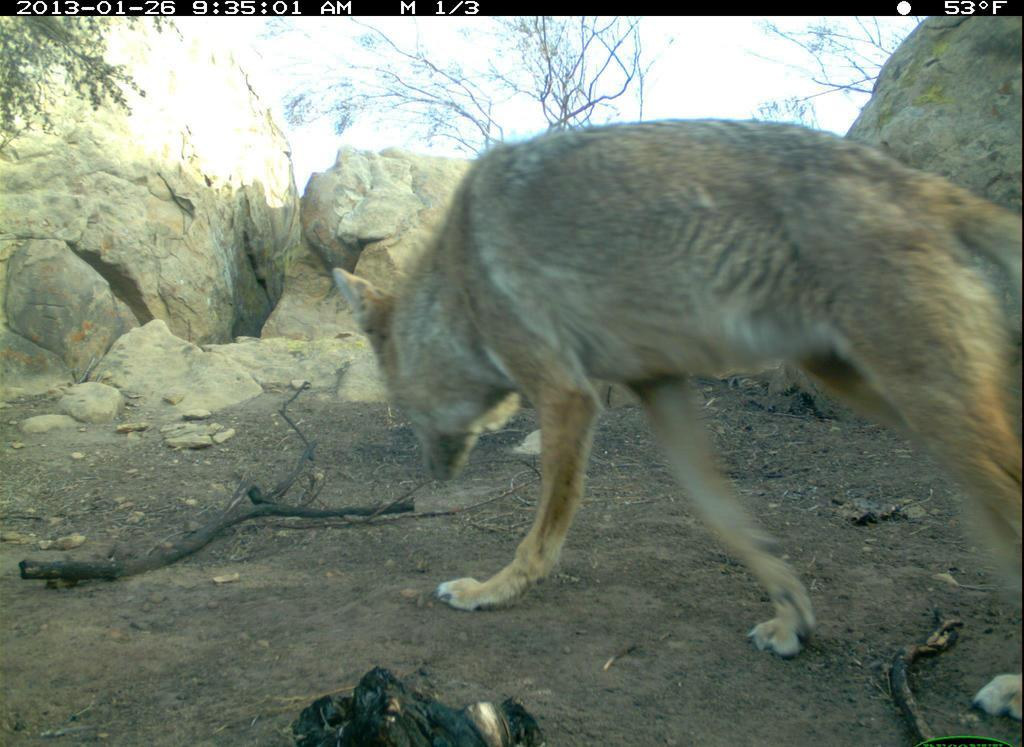coyote: (332, 109, 1021, 724)
